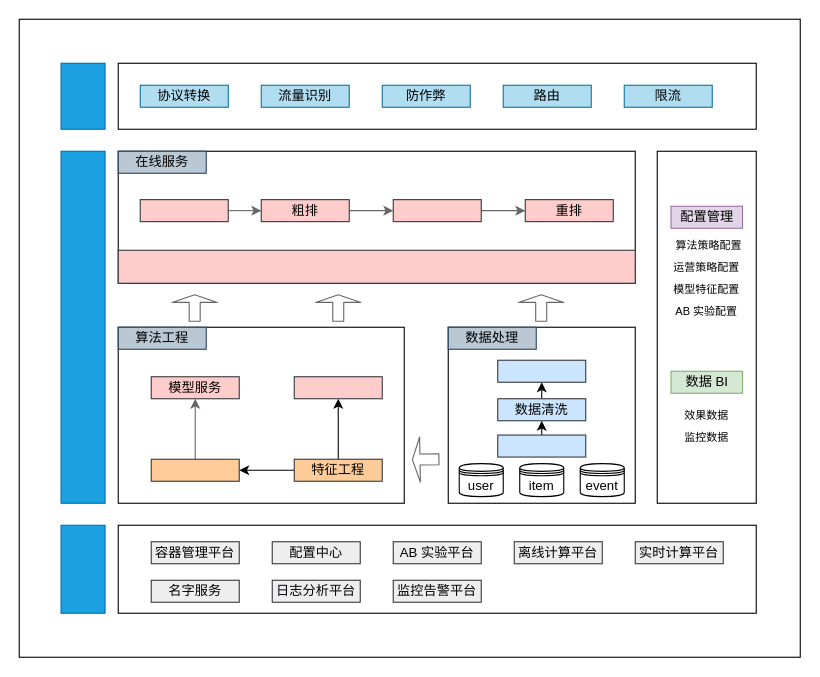
The diagram is 820 pixels wide and 677 high, and some of its shapes have lost their labels. Here are the shapes that lost their labels. From the top down, the centre of each, then its label:
At (x=82, y=95): "网关".
At (x=183, y=210): "召回".
At (x=436, y=210): "精排".
At (x=376, y=266): "竞价引擎".
At (x=82, y=326): "推荐 引擎".
At (x=337, y=387): "特征服务".
At (x=541, y=370): "数据计算".
At (x=541, y=445): "数据接入".
At (x=194, y=469): "模型训练".
At (x=82, y=568): "基础 设施".
